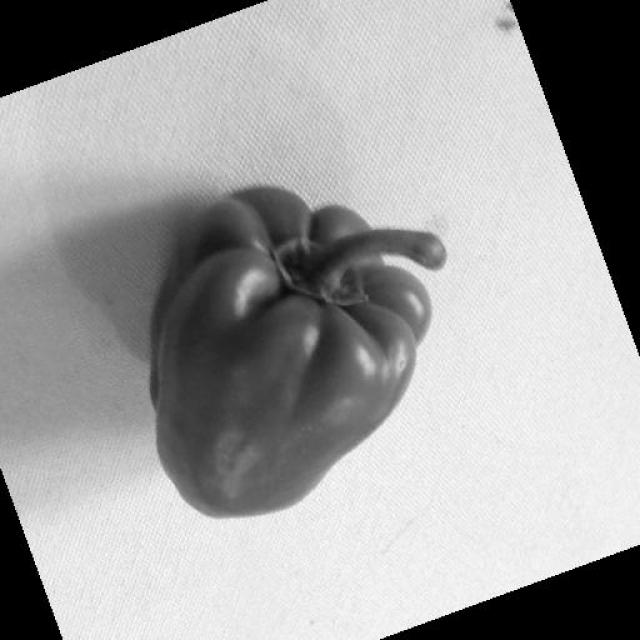Fresh_Capsicum: (146, 174, 448, 532)
